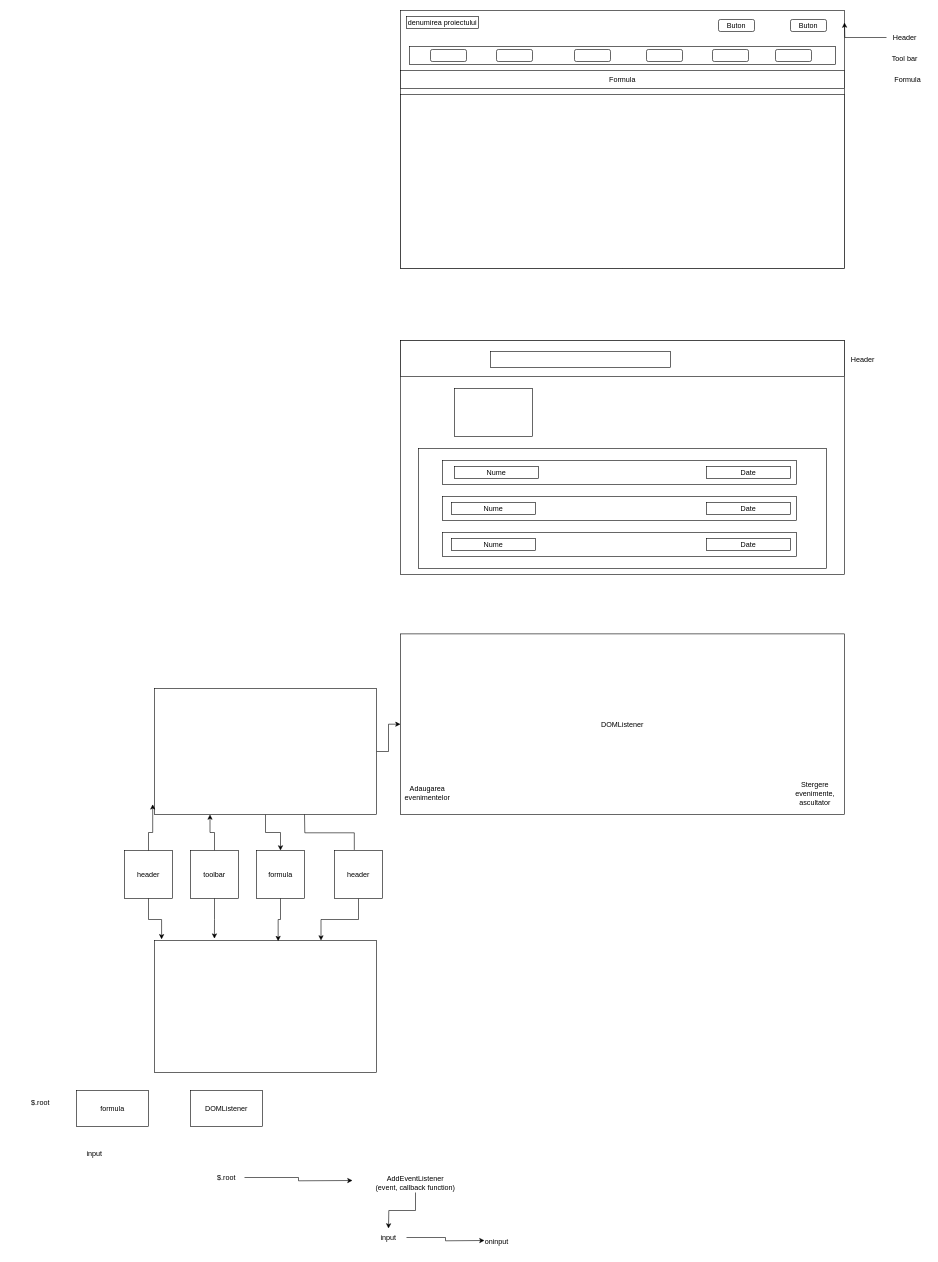
The diagram is 938 pixels wide and 1262 high, and some of its shapes have lost their labels. Each missing label, with the centre of its shape:
"Adauga +" belongs at [493,412].
"Excel" belongs at [265,1006].
"Excel Component" belongs at [265,751].
"Search Bar" belongs at [580,359].
"Tabel" belongs at [622,181].
